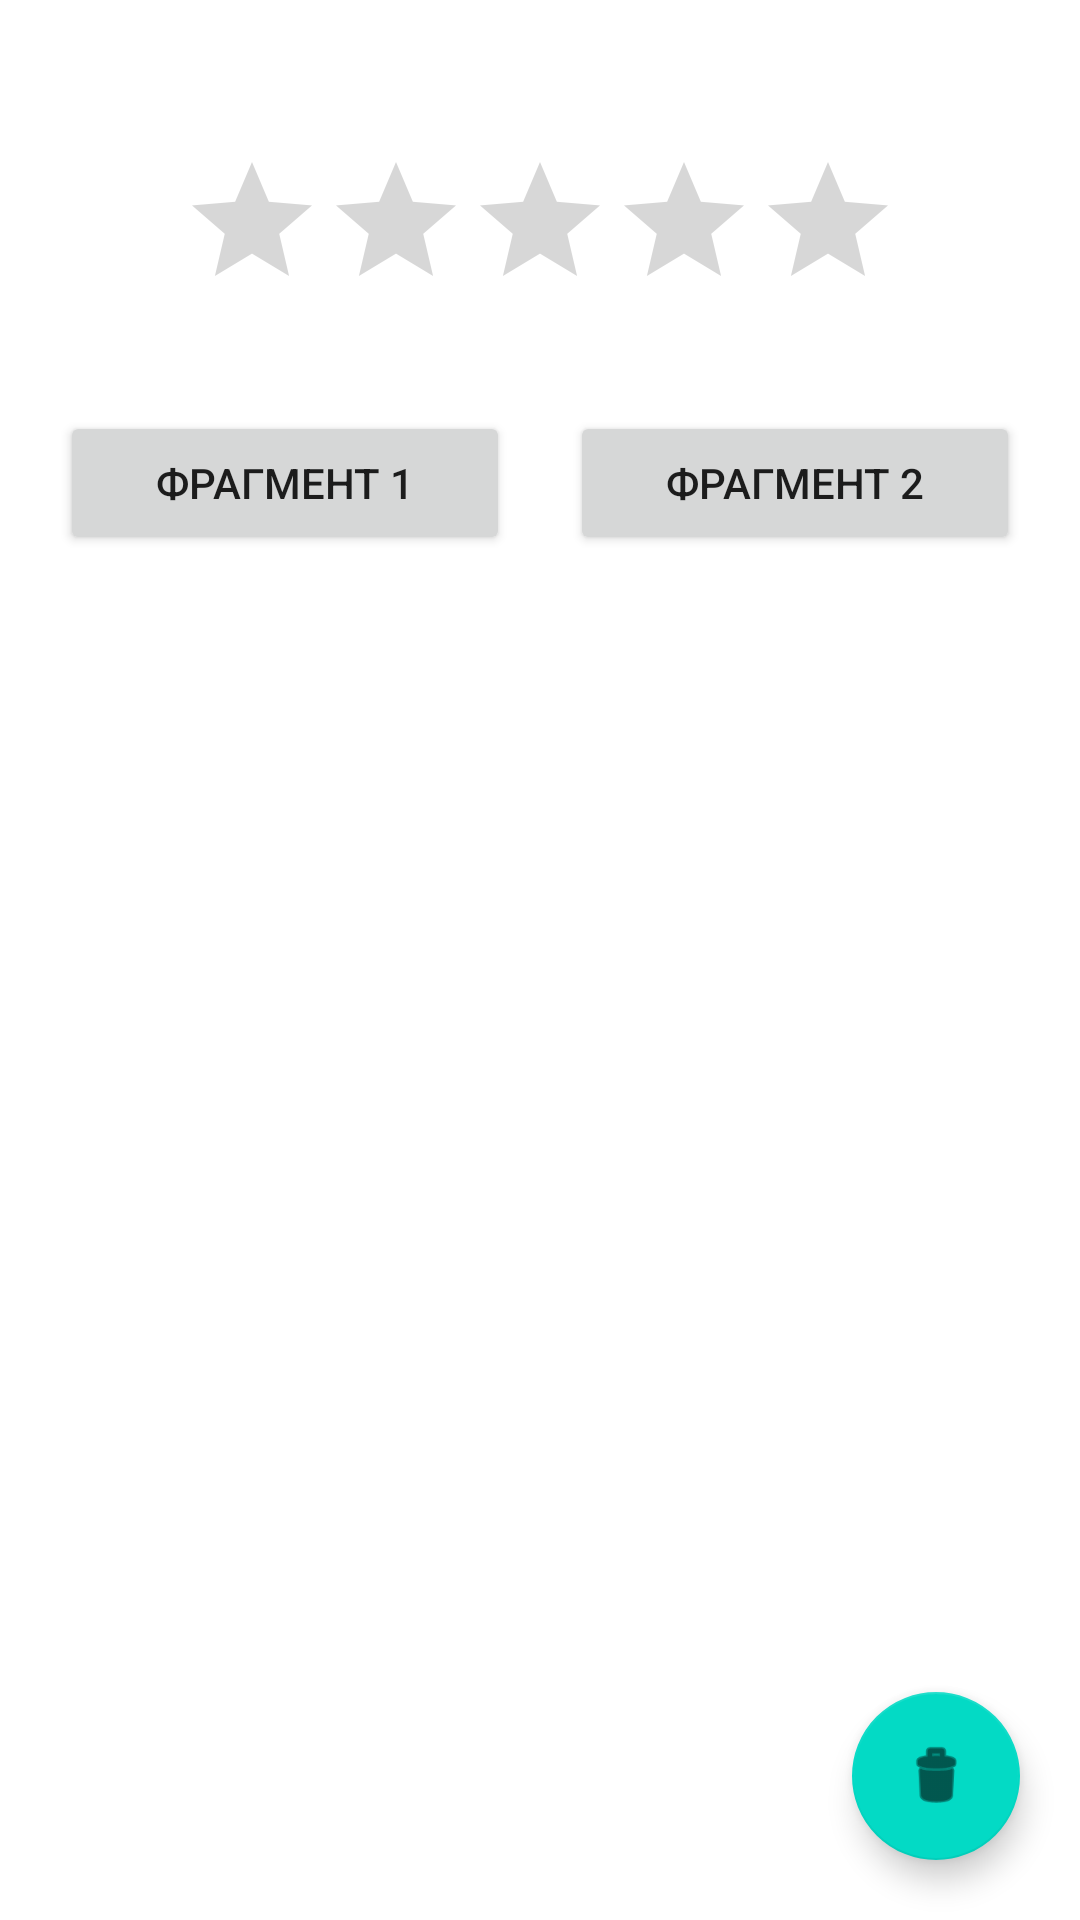

Icons on this 1080px×1920px Android screen, each with the point to tap as (x,y):
delete: (936,1776)
